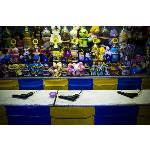Pistol: (56, 91, 80, 101), (117, 90, 139, 99), (12, 91, 34, 99)
